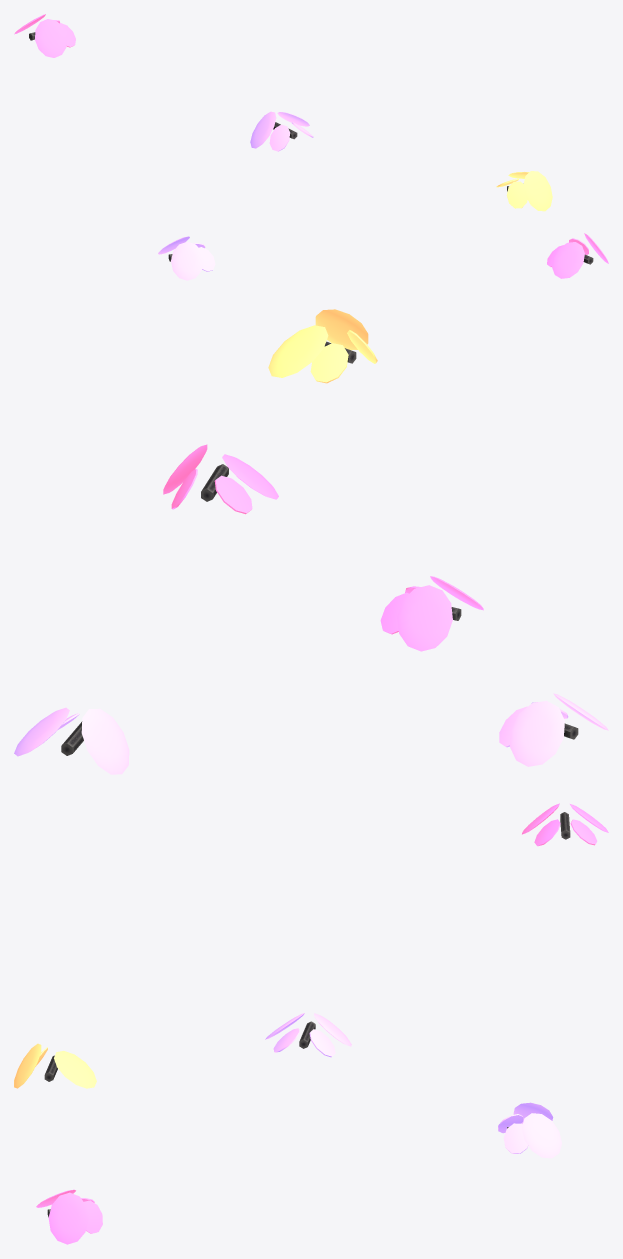
File: en_butterflies.glb
3 renders of one model, top to bottom at view 1: azimuth 30°, elevation 25°; view 2: azimuth 150°, elevation 25°; view 3: azimuth 270°, elevation 25°, orthographic. The views are drawn at different scales.
Visible parts, largest first — view 1: en_butterflies; view 2: en_butterflies; view 3: en_butterflies.
Boxes of the visible parts, <box> form: en_butterflies: <box>14,14,608,280</box>; en_butterflies: <box>14,309,608,774</box>; en_butterflies: <box>14,803,608,1244</box>.
Bounding box in the file's own units: 2.64 × 1.23 × 2.95.
4 materials, 4 textured.
